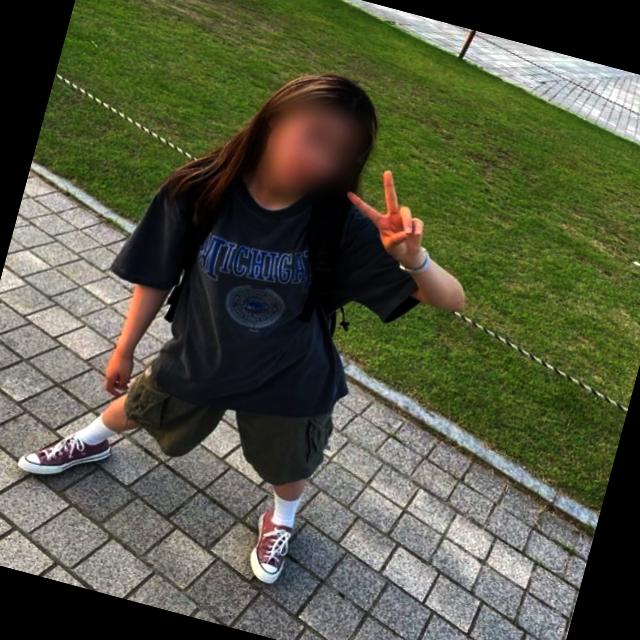shortpants: (116, 338, 347, 503)
shortsleeve: (82, 138, 442, 451)
